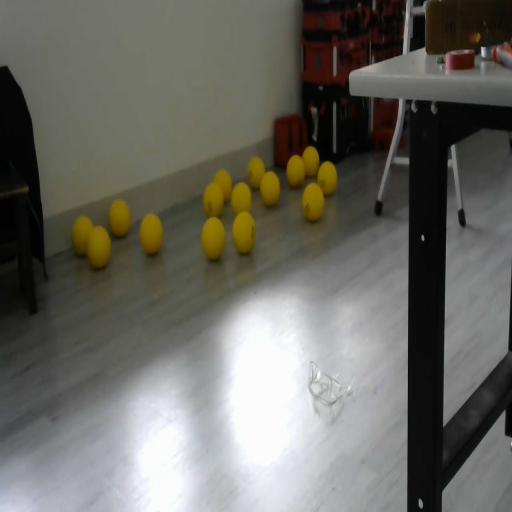FUEL: (85, 224, 112, 269), (200, 215, 226, 261), (139, 213, 164, 256), (232, 210, 256, 254), (108, 199, 132, 238), (302, 182, 324, 222), (317, 160, 337, 196), (231, 182, 252, 216), (213, 168, 233, 203), (260, 171, 280, 206), (286, 154, 305, 188), (247, 156, 266, 189), (302, 145, 320, 178)
